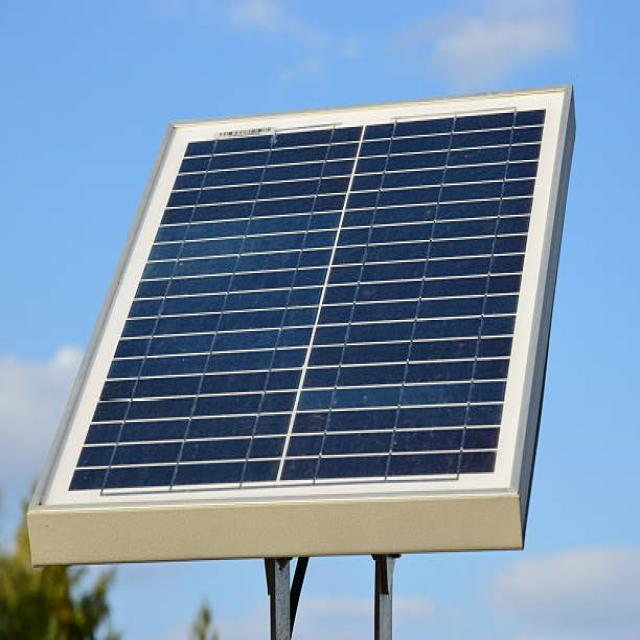no faulty: (35, 86, 575, 510)
